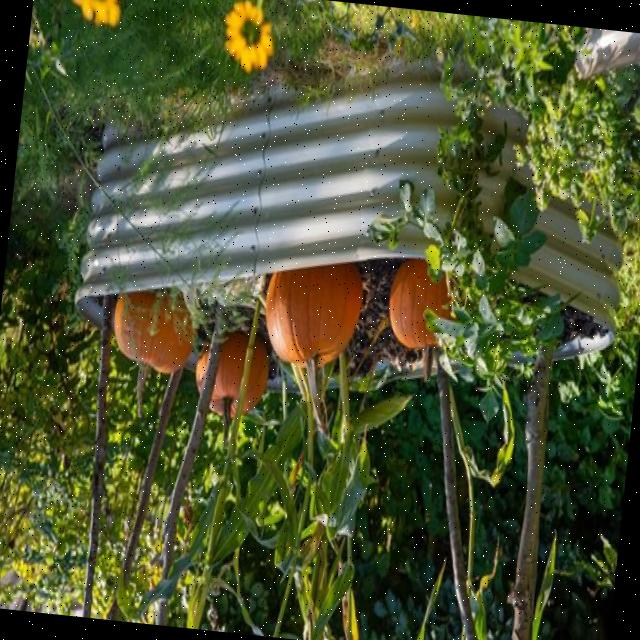pumpkin: (265, 263, 360, 437), (114, 290, 191, 415), (389, 258, 449, 346), (208, 331, 248, 421), (242, 338, 266, 411), (195, 346, 208, 390)
